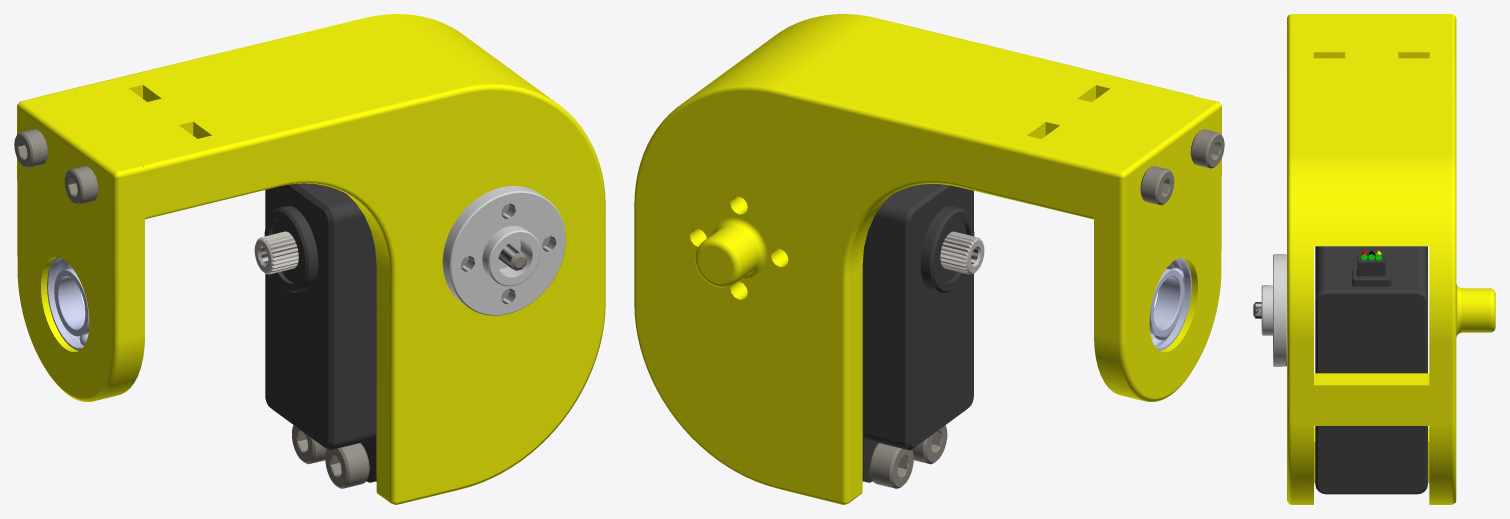
3 renders of one model, left to right at view 1: azimuth 30°, elevation 25°; view 2: azimuth 150°, elevation 25°; view 3: azimuth 270°, elevation 25°, orthographic. The views are drawn at different scales.
Parts seen in each view (by area): view 1: mesh 3 FL1 joint-1/FL - Servo Housing-1, mesh 9 FL1 joint-1/M3 Square Nut DIN 562-2, mesh 4 FL1 joint-1/25T Servo horn round-1, mesh 2 Chamfer1 face, mesh 6 FL1 joint-1/688 CN-1/bearing_688_1_02-1, mesh 10 FL1 joint-1/M4 Nut DIN 934-1, mesh 1 FL1 joint-1/M3 x 6 DIN 912-1; view 2: mesh 3 FL1 joint-1/FL - Servo Housing-1, mesh 9 FL1 joint-1/M3 Square Nut DIN 562-2, mesh 2 Chamfer1 face, mesh 6 FL1 joint-1/688 CN-1/bearing_688_1_02-1, mesh 10 FL1 joint-1/M4 Nut DIN 934-1; view 3: mesh 3 FL1 joint-1/FL - Servo Housing-1, mesh 9 FL1 joint-1/M3 Square Nut DIN 562-2, mesh 4 FL1 joint-1/25T Servo horn round-1.
Boxes of the visible parts, bbox=[...] form: mesh 3 FL1 joint-1/FL - Servo Housing-1: bbox=[17, 14, 605, 504]; mesh 9 FL1 joint-1/M3 Square Nut DIN 562-2: bbox=[264, 183, 376, 482]; mesh 4 FL1 joint-1/25T Servo horn round-1: bbox=[442, 186, 565, 315]; mesh 2 Chamfer1 face: bbox=[14, 129, 527, 488]; mesh 6 FL1 joint-1/688 CN-1/bearing_688_1_02-1: bbox=[47, 257, 89, 350]; mesh 10 FL1 joint-1/M4 Nut DIN 934-1: bbox=[254, 231, 298, 274]; mesh 1 FL1 joint-1/M3 x 6 DIN 912-1: bbox=[261, 203, 556, 304]; mesh 3 FL1 joint-1/FL - Servo Housing-1: bbox=[634, 14, 1221, 504]; mesh 9 FL1 joint-1/M3 Square Nut DIN 562-2: bbox=[862, 184, 974, 482]; mesh 2 Chamfer1 face: bbox=[869, 129, 1224, 488]; mesh 6 FL1 joint-1/688 CN-1/bearing_688_1_02-1: bbox=[1149, 257, 1191, 350]; mesh 10 FL1 joint-1/M4 Nut DIN 934-1: bbox=[940, 231, 984, 274]; mesh 3 FL1 joint-1/FL - Servo Housing-1: bbox=[1287, 14, 1495, 504]; mesh 9 FL1 joint-1/M3 Square Nut DIN 562-2: bbox=[1315, 246, 1427, 494]; mesh 4 FL1 joint-1/25T Servo horn round-1: bbox=[1261, 254, 1286, 366].
Size of the model in its own units: 0.0877 by 0.066 by 0.043.
14 materials, 1 textured.
